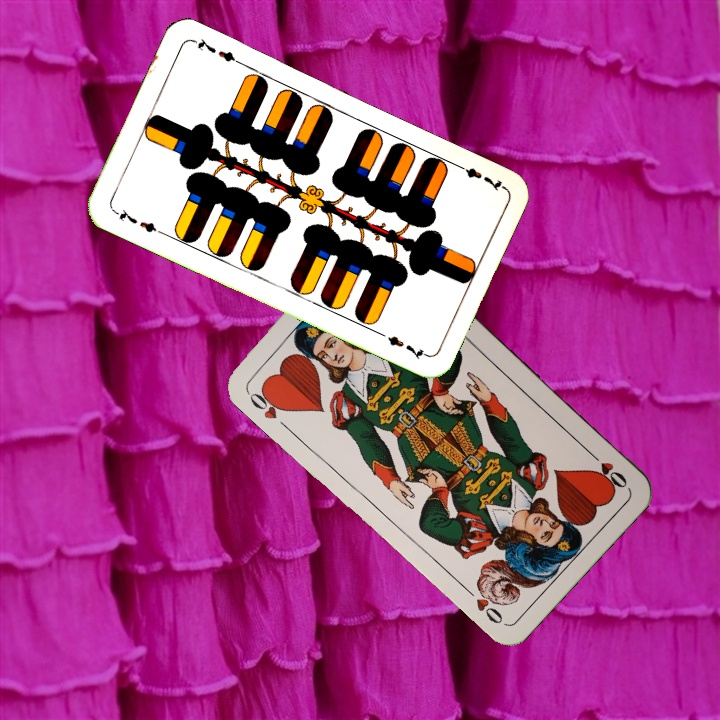E7: (451, 159, 506, 194), (109, 205, 165, 237)
HO: (583, 446, 630, 491), (242, 382, 291, 422)
